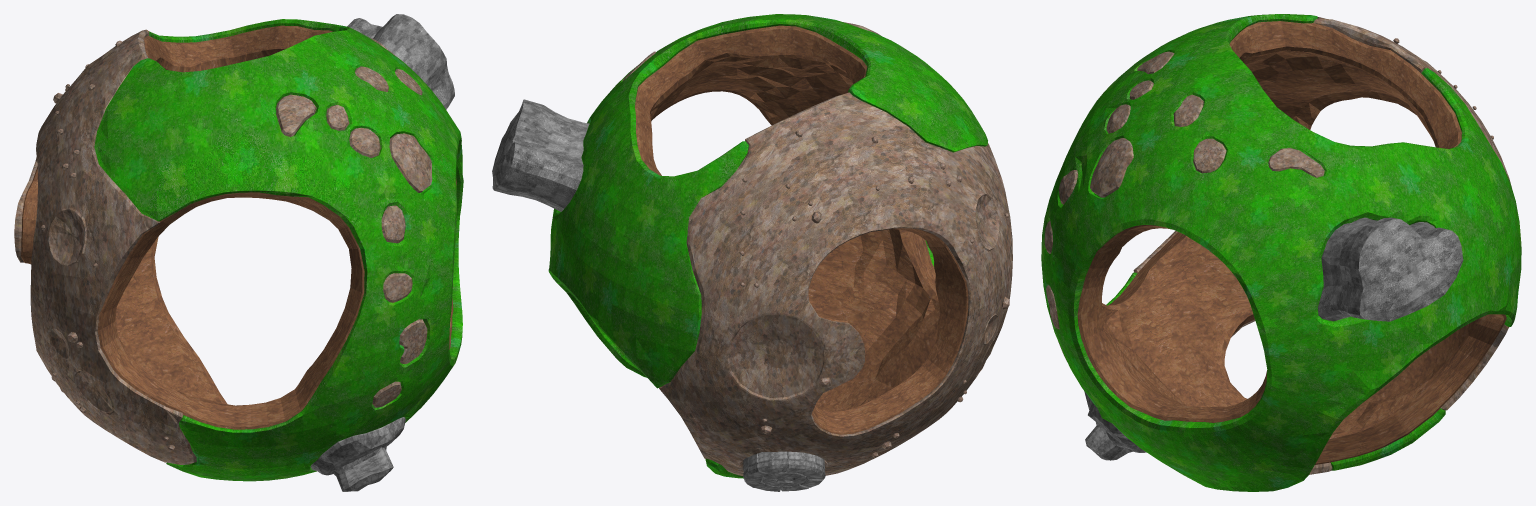
Rendered from HeavensDoorBlackHolePlanet_bake.dae.
The picture shows the model from 3 angles, left to right: view 1: azimuth 30°, elevation 25°; view 2: azimuth 150°, elevation 25°; view 3: azimuth 270°, elevation 25°; orthographic projection. The views are drawn at different scales.
Parts seen in each view (by area): view 1: m2, m1, m0, m3; view 2: m1, m2, m0, m3; view 3: m2, m0, m3, m1.
Part boxes in pixels (x1=…): m2: x1=94, y1=19, x2=463, y2=481; m1: x1=14, y1=29, x2=432, y2=464; m0: x1=20, y1=25, x2=456, y2=429; m3: x1=310, y1=14, x2=454, y2=491; m1: x1=622, y1=22, x2=1012, y2=475; m2: x1=548, y1=14, x2=987, y2=478; m0: x1=616, y1=25, x2=968, y2=434; m3: x1=492, y1=99, x2=825, y2=491; m2: x1=1041, y1=14, x2=1521, y2=491; m0: x1=1077, y1=21, x2=1506, y2=464; m3: x1=1084, y1=217, x2=1463, y2=460; m1: x1=1044, y1=17, x2=1511, y2=474.
Bounding box in the file's own units: 2482 × 2261 × 2269.
5 materials, 5 textured.
